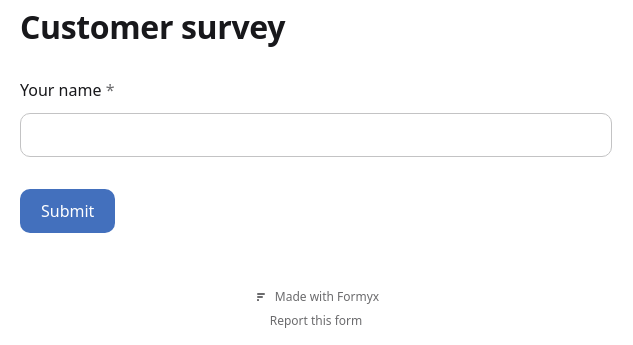
Test: the spam check › sends Turnstile's token with the response
Type "Ada" into the field labelled "Your name *" at (316, 135), box [20,113,612,157]
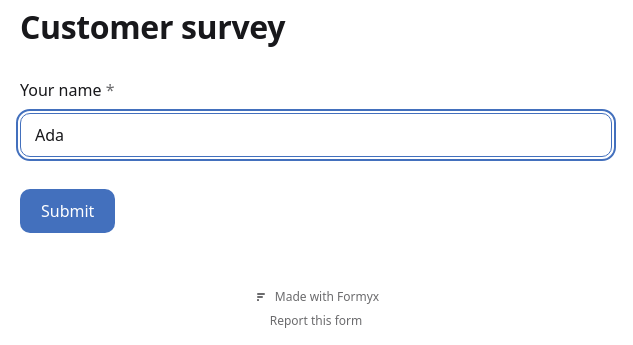
Click the button "Submit" at (68, 211), box [20,189,115,233]
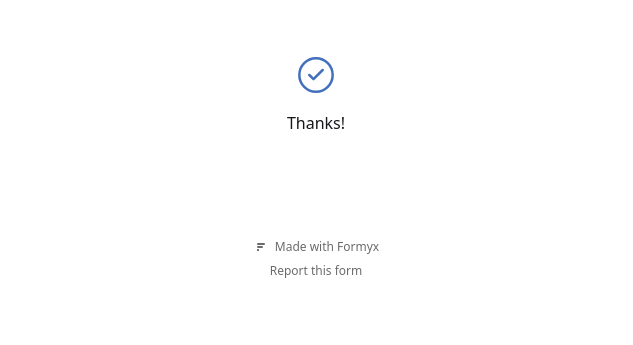
Result: the text "Thanks!" is shown at [287,111,345,135]
